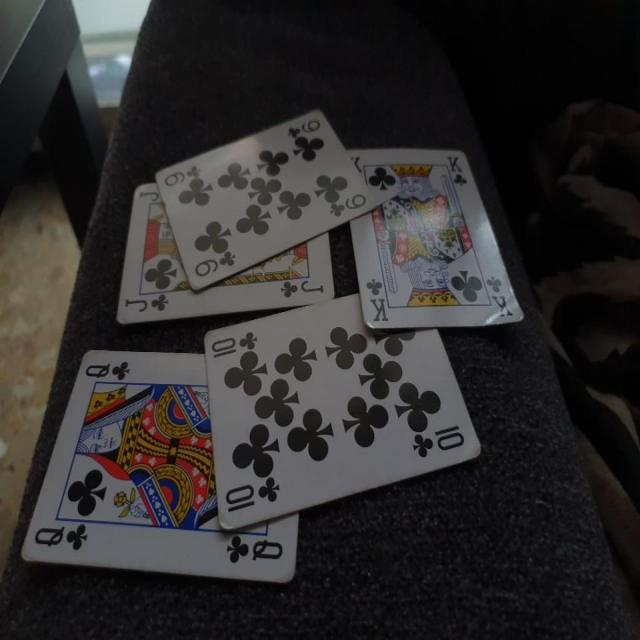10 Trefoils: (202, 289, 479, 532)
9 Trefoils: (154, 106, 379, 290)
J Trefoils: (115, 180, 334, 326)
K Trefoils: (345, 144, 524, 328)
Q Trefoils: (21, 348, 301, 585)
